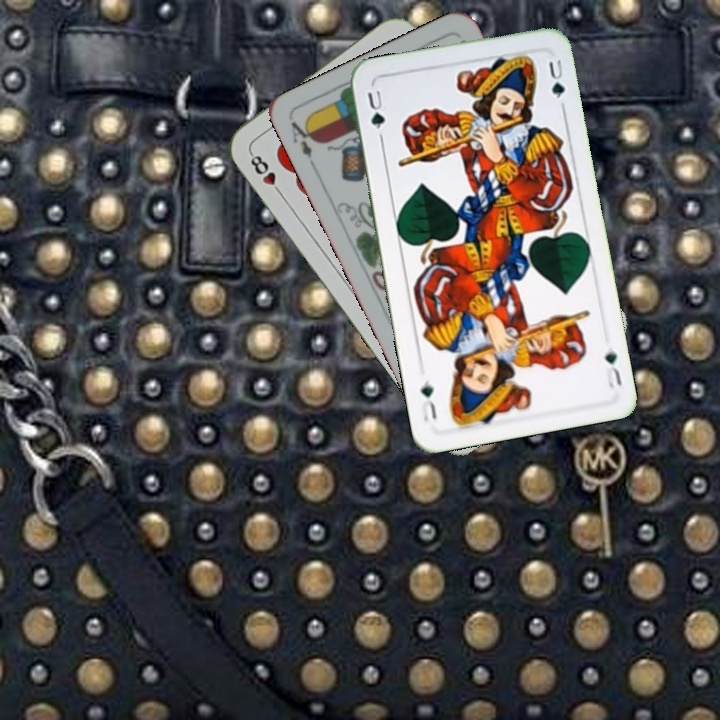EA: (286, 116, 319, 172)
GU: (363, 86, 388, 132), (601, 346, 625, 393)
H8: (245, 148, 286, 199)
